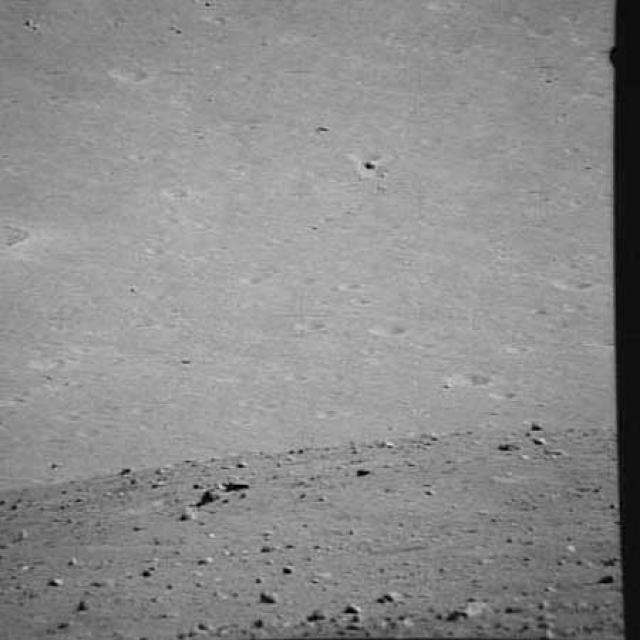crater: (432, 361, 492, 391), (100, 61, 153, 91), (1, 216, 34, 256), (153, 181, 200, 201)
